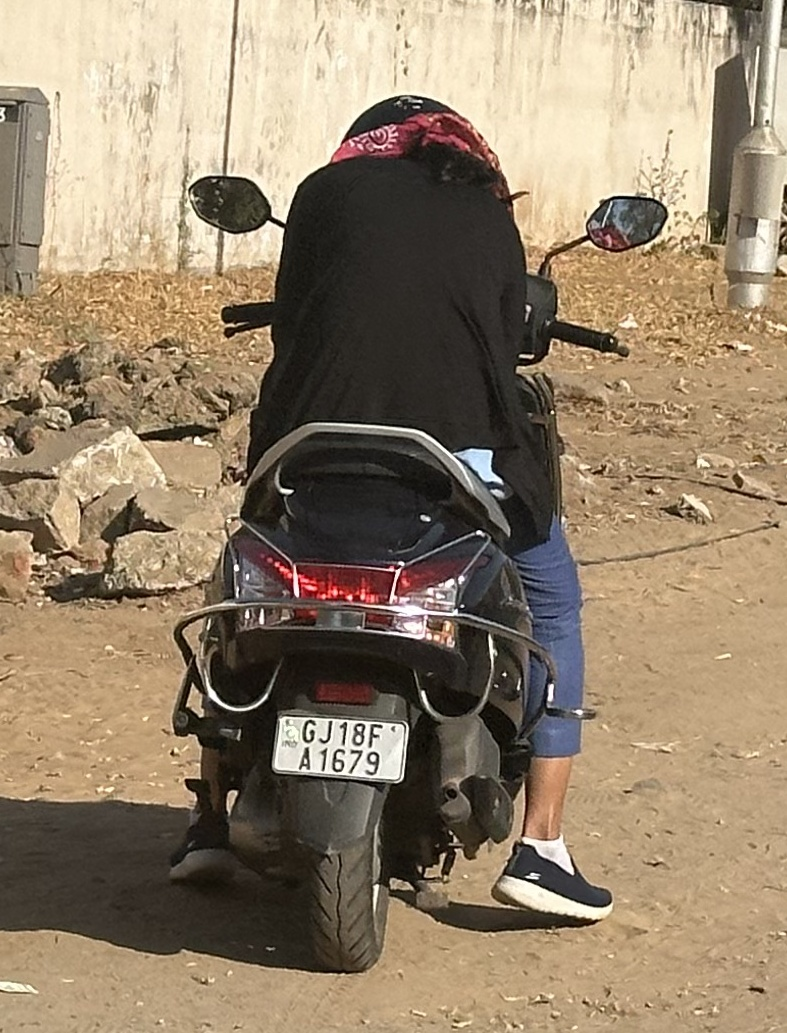BikeWithRider: (143, 82, 680, 982)
NoHelmet: (310, 85, 526, 219)
